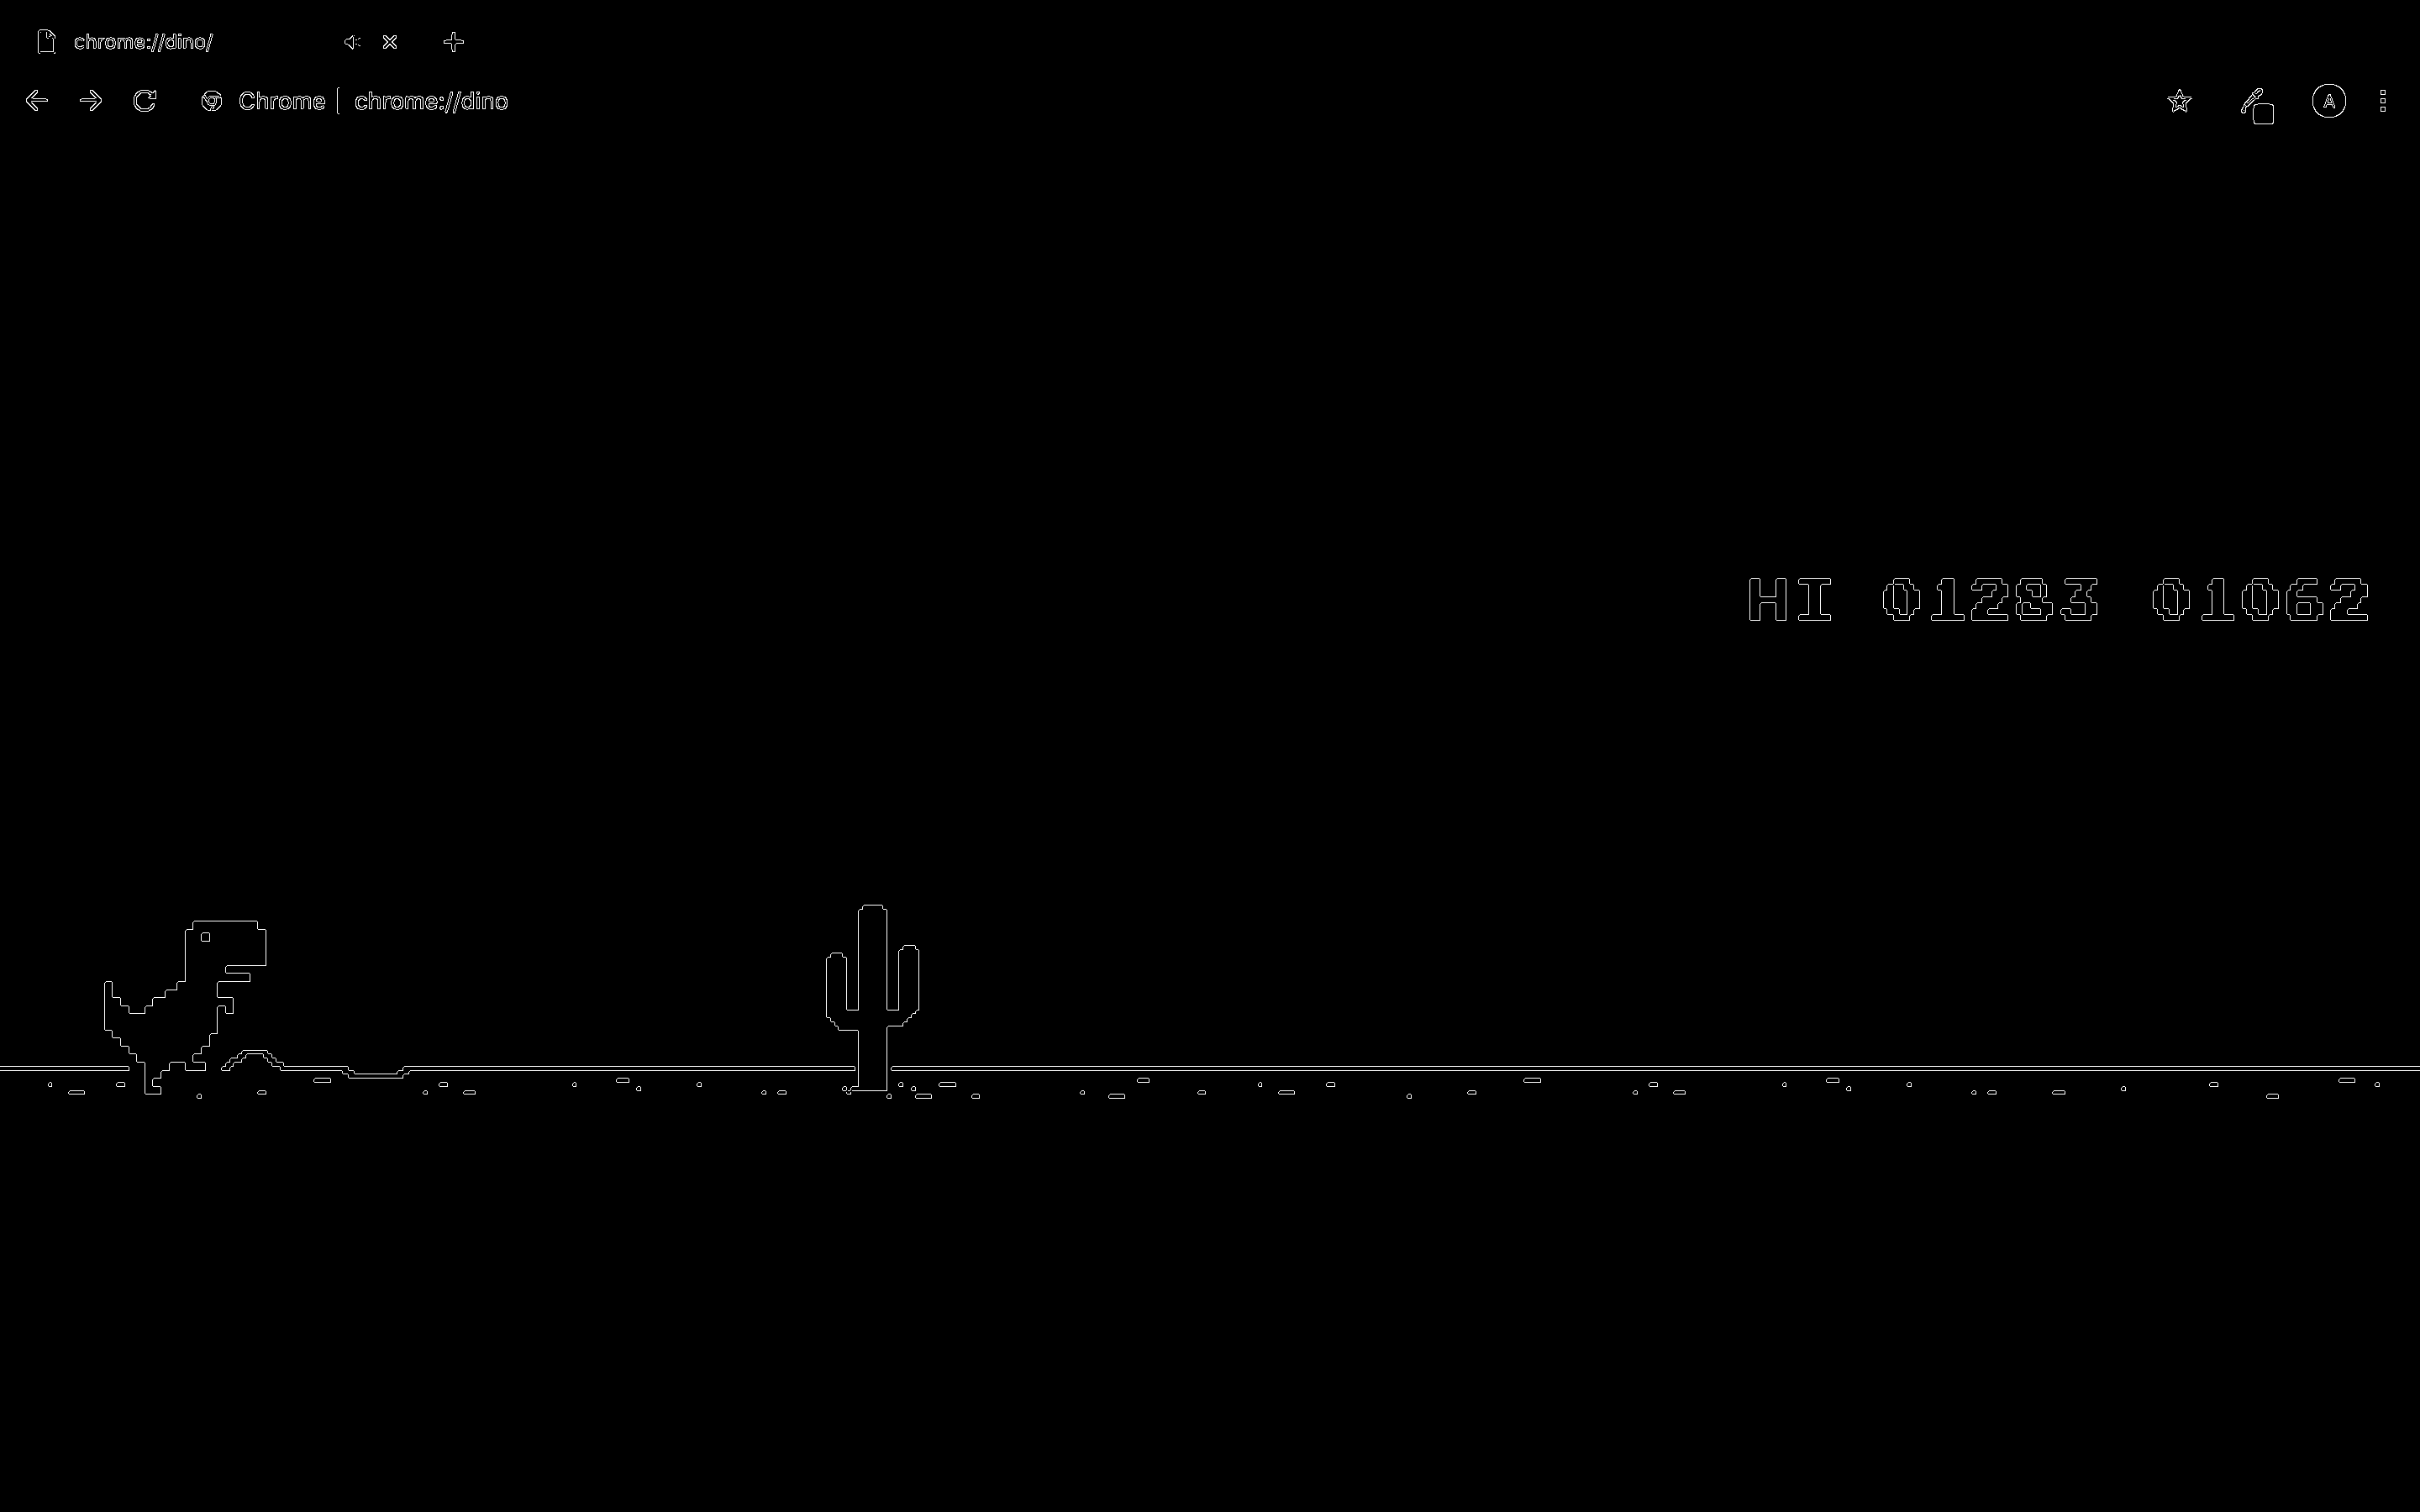Cactus: (796, 904, 934, 1090)
Dino: (98, 921, 268, 1092)
